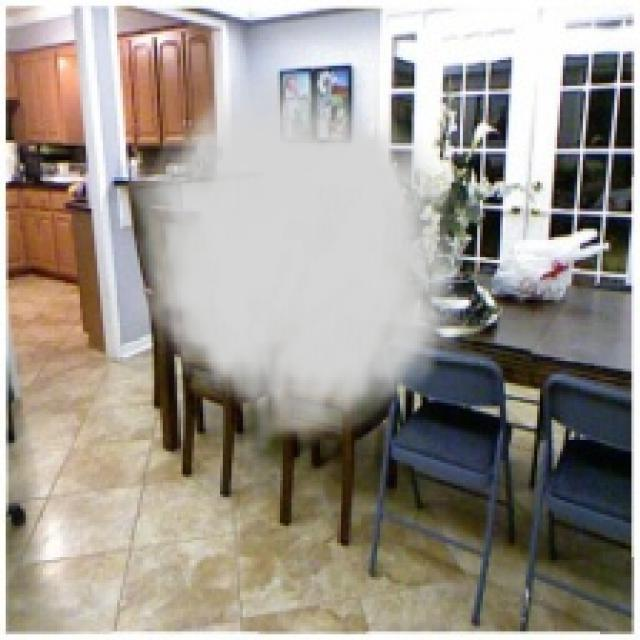Smoke: (128, 54, 478, 457)
